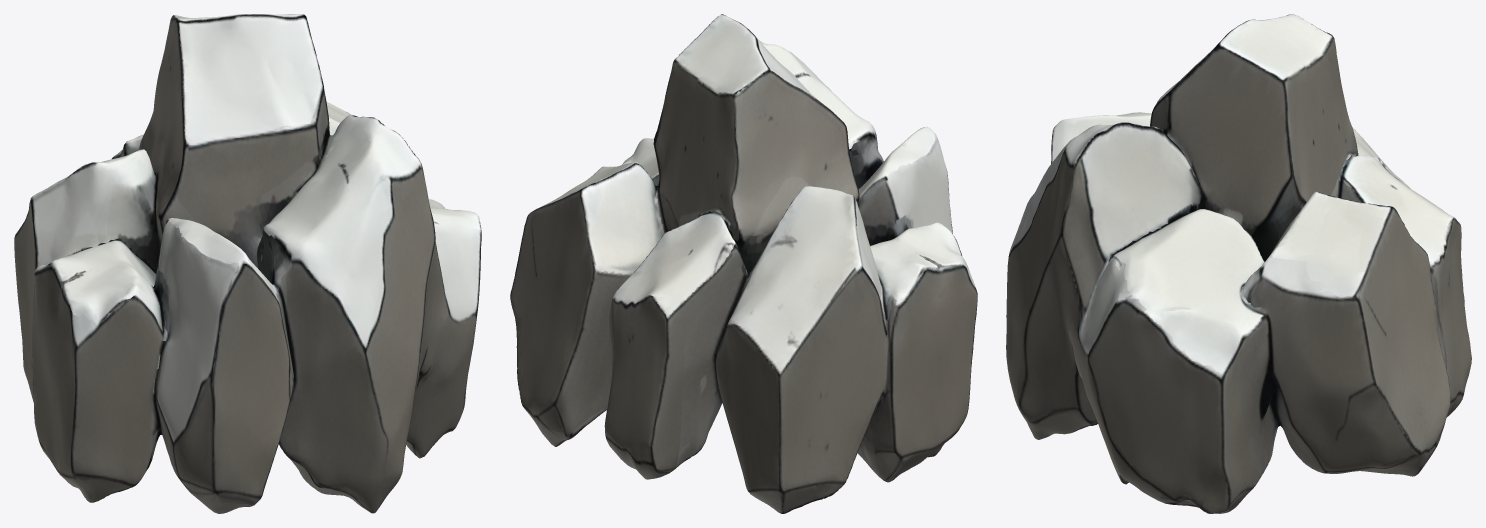
File: debris-plaster.glb
3 renders of one model, left to right at view 1: azimuth 30°, elevation 25°; view 2: azimuth 150°, elevation 25°; view 3: azimuth 270°, elevation 25°, orthographic. The views are drawn at different scales.
Visible parts, largest first — view 1: tmpe0chnbve.ply; view 2: tmpe0chnbve.ply; view 3: tmpe0chnbve.ply.
Boxes of the visible parts, left/top/right/bottom form: tmpe0chnbve.ply: left=14, top=14, right=481, bottom=513; tmpe0chnbve.ply: left=510, top=14, right=977, bottom=513; tmpe0chnbve.ply: left=1006, top=14, right=1471, bottom=513.
Size of the model in its own units: 1 by 1 by 1.
1 material, 1 textured.
